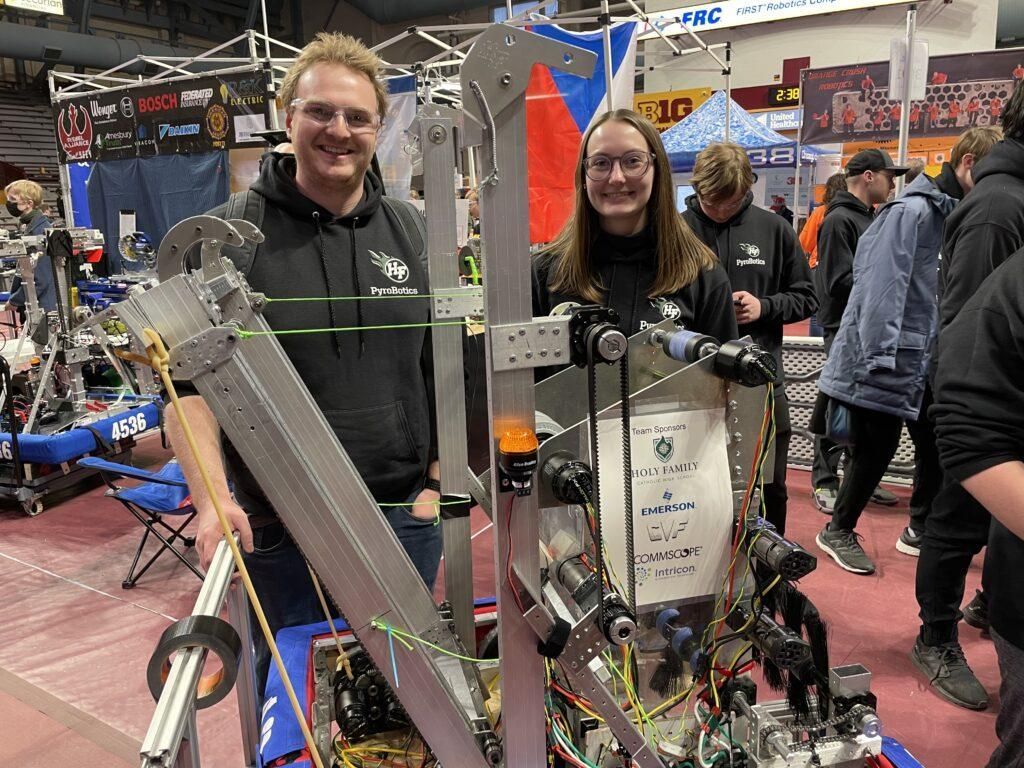robot: (101, 17, 930, 768)
